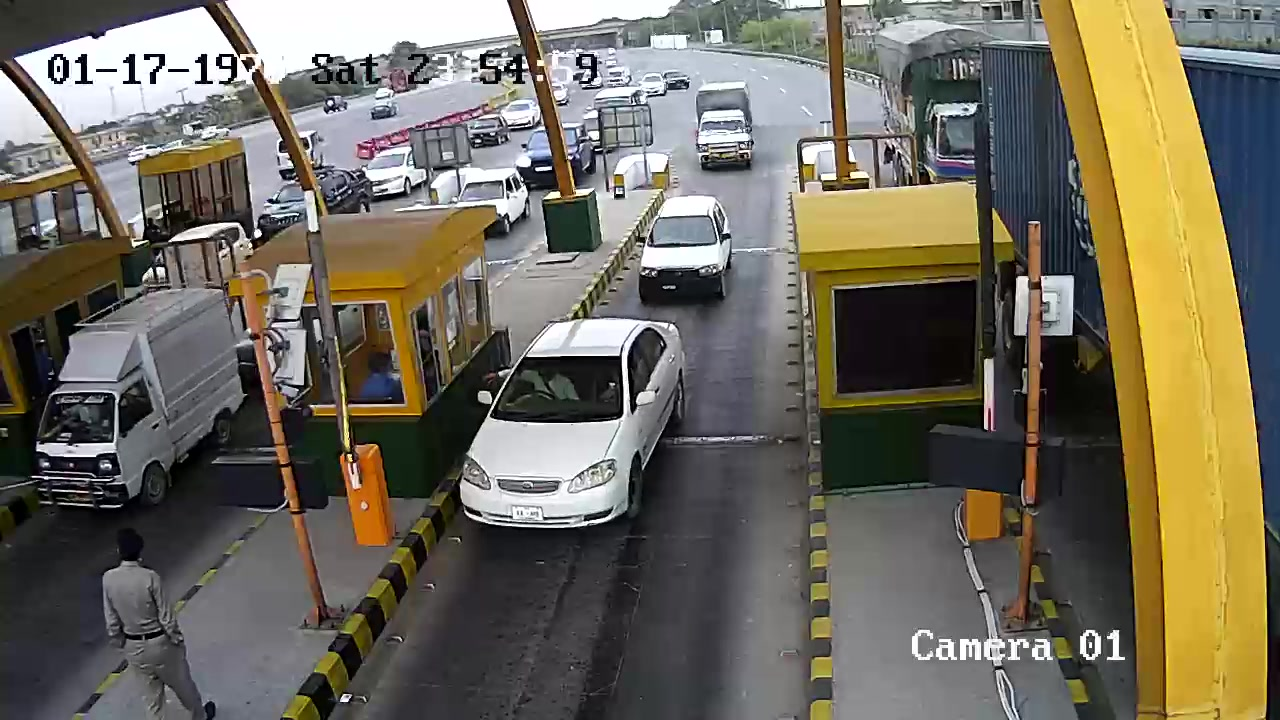F1: (439, 312, 694, 558)
